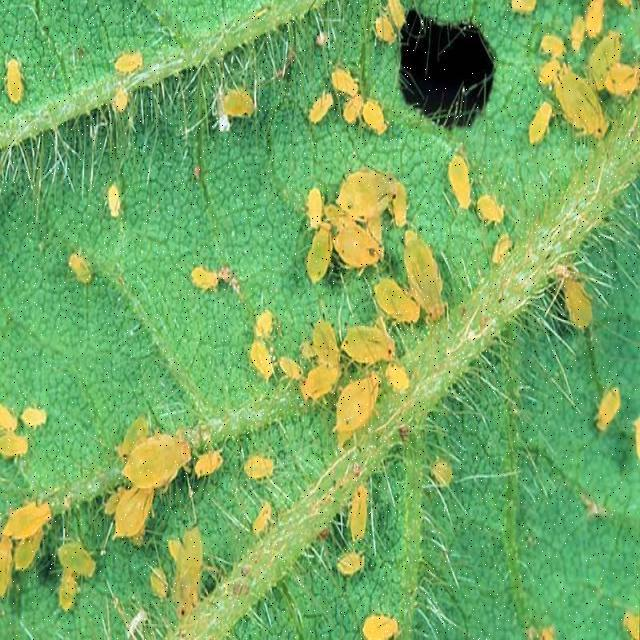Aphids: (115, 410, 201, 502), (327, 145, 398, 221), (545, 253, 600, 336), (334, 459, 381, 552), (435, 139, 477, 225), (51, 233, 98, 297), (214, 80, 269, 133), (187, 257, 228, 312)
